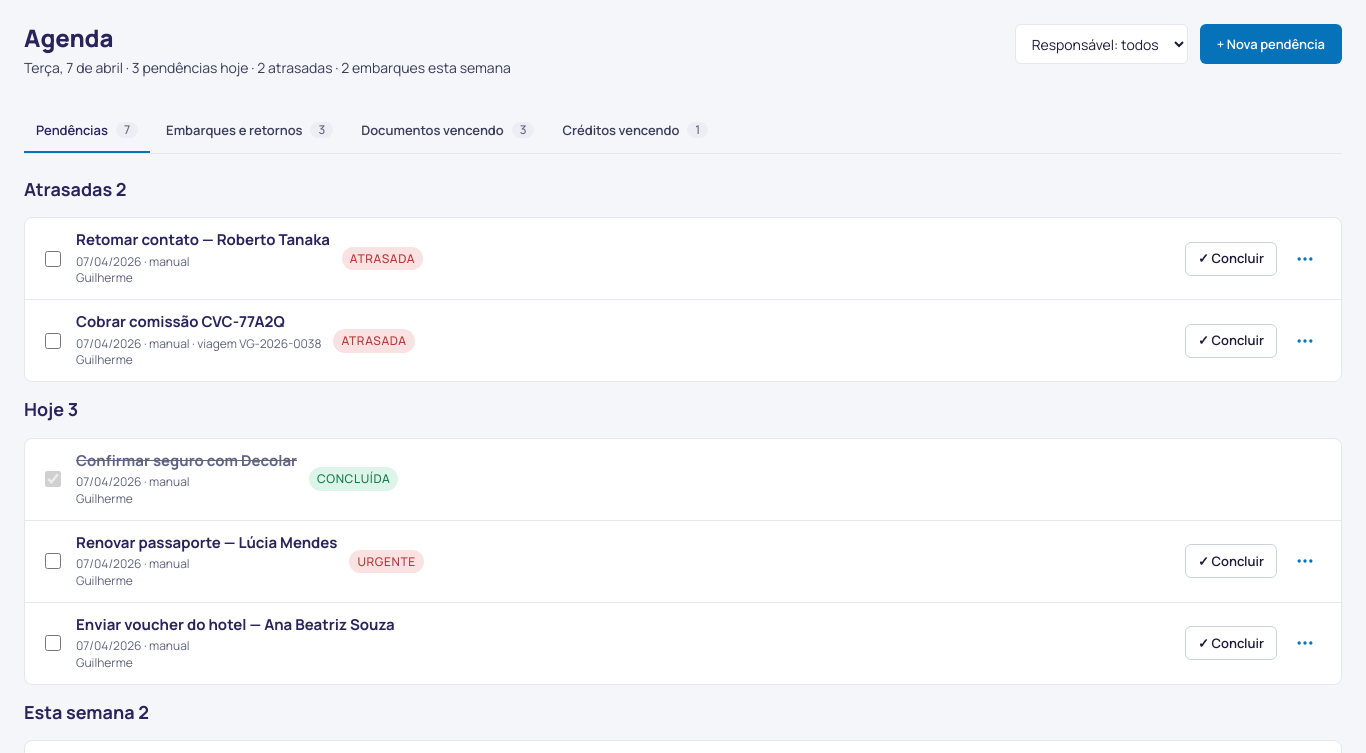
Test: 'Créditos vencendo' mostra R$ 5.100,00
Expected: the heading "Atrasadas 2" is shown, [24,177,126,201]
Click the tab "Créditos vencendo 1" at (635, 131), box [550,110,720,153]
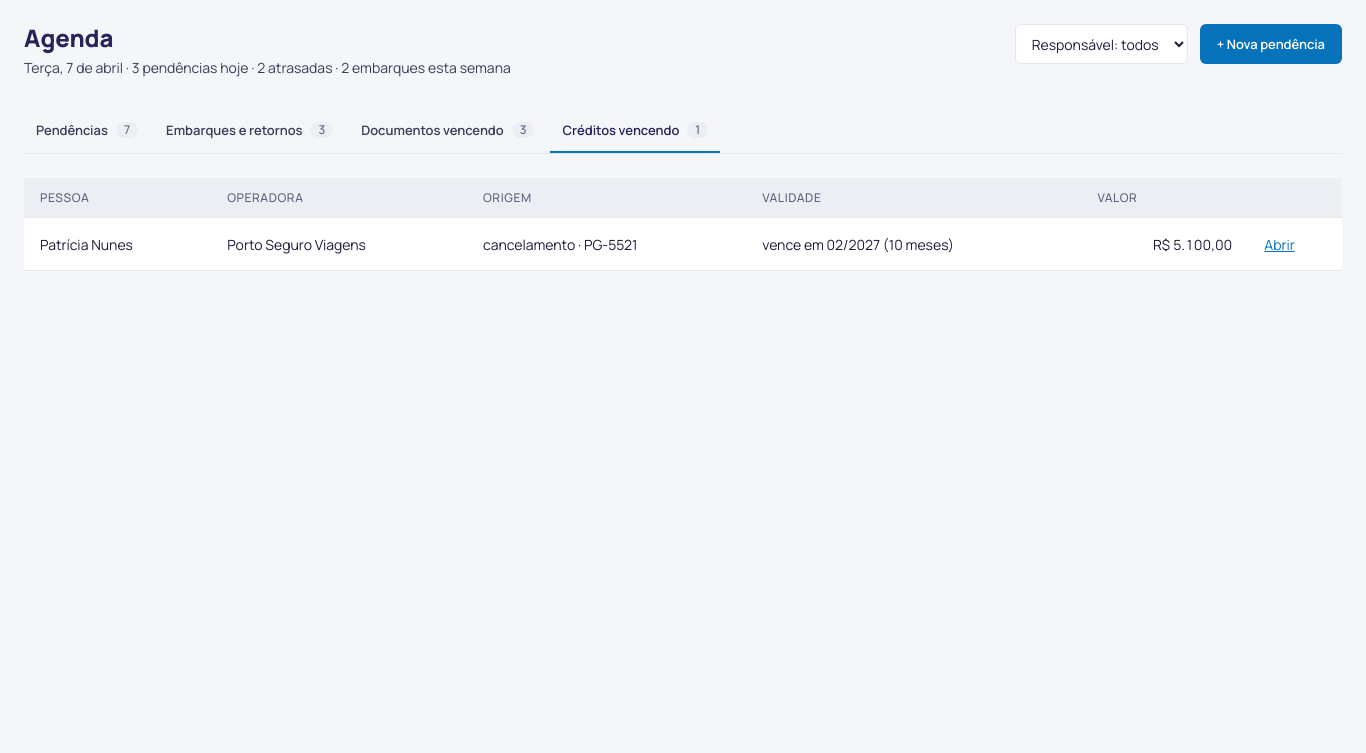
Result: the text "R$ 5.100,00" is shown at [1153,234,1232,254]
